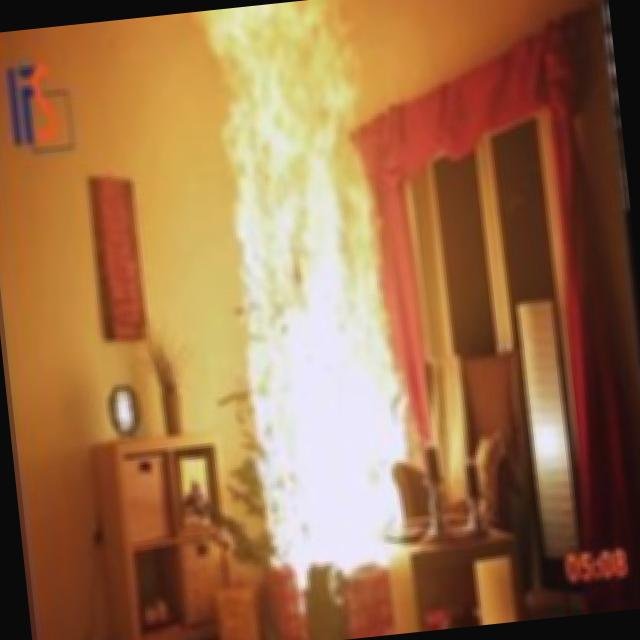fire: (142, 0, 483, 613)
